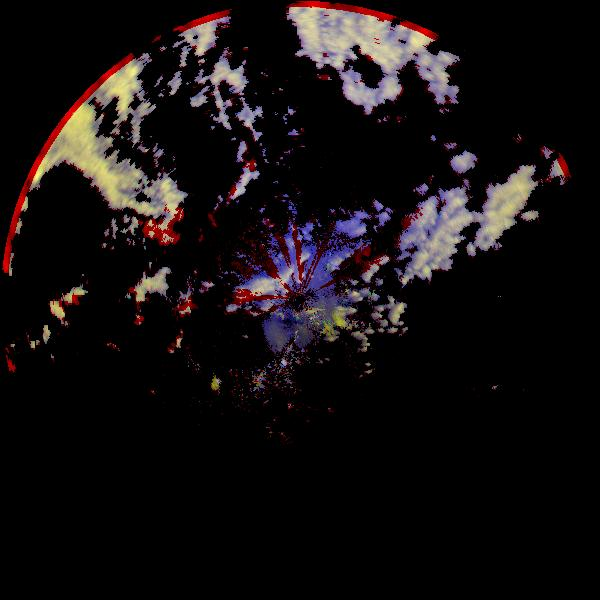roost: (70, 330, 139, 399)
